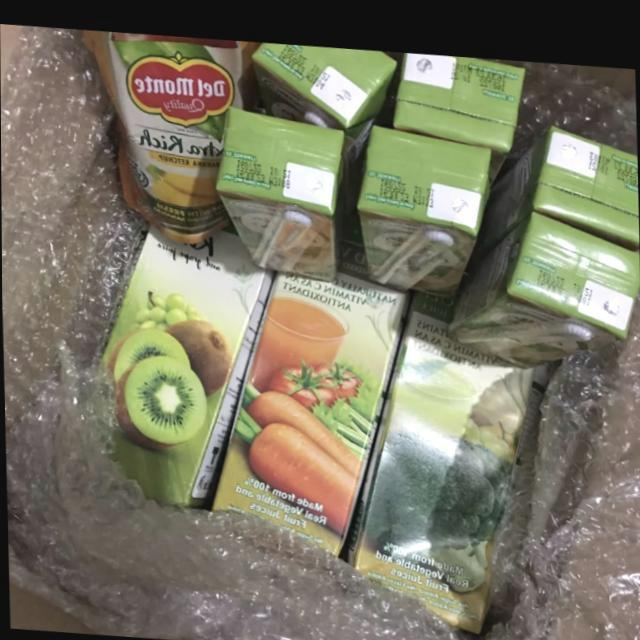plastic_sachet: (84, 28, 256, 244)
